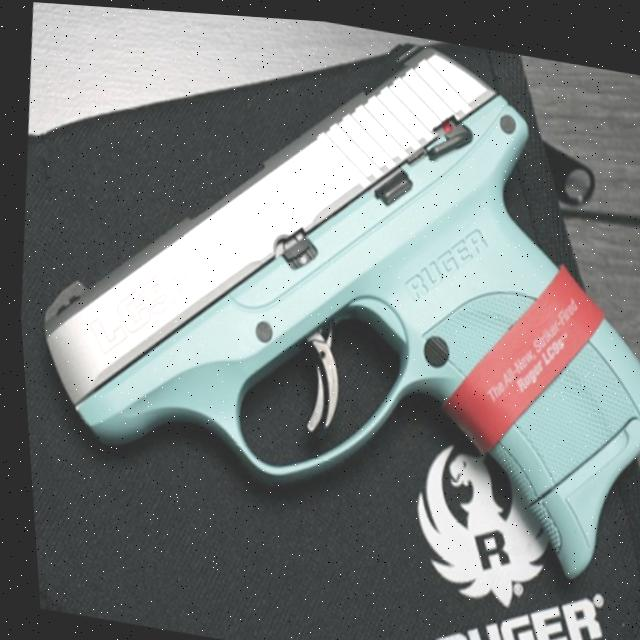pistol: (2, 0, 640, 583)
